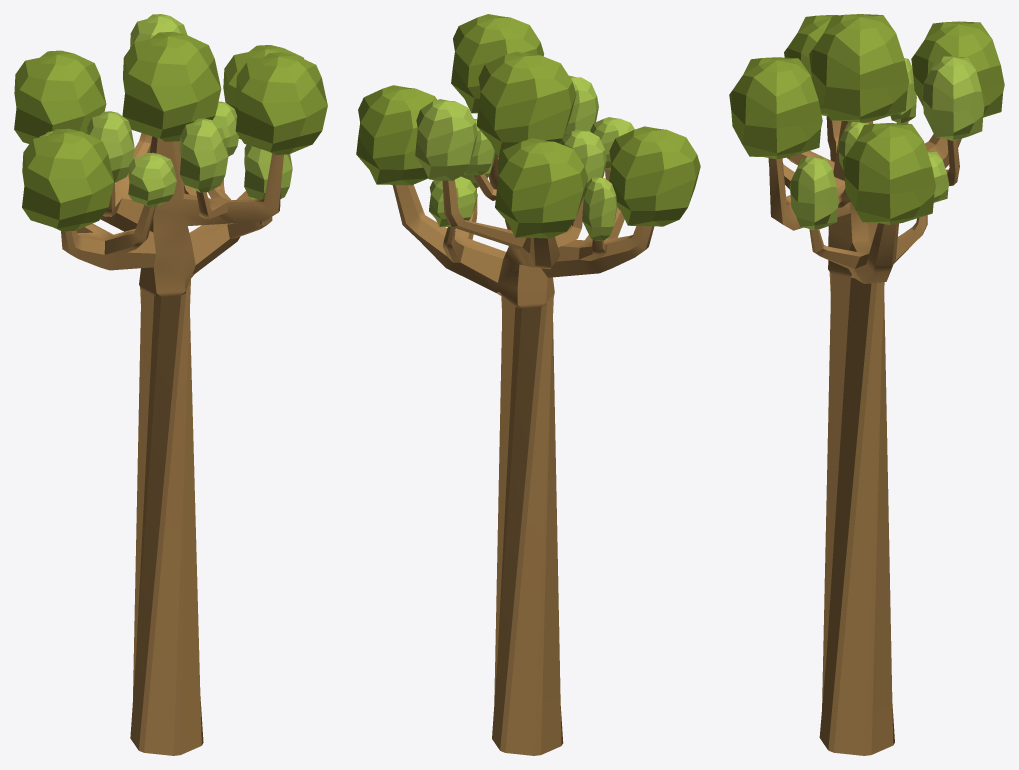
Rendered from arbreBranches.fbx.
3 renders of one model, left to right at view 1: azimuth 30°, elevation 25°; view 2: azimuth 150°, elevation 25°; view 3: azimuth 270°, elevation 25°, orthographic. The views are drawn at different scales.
Parts seen in each view (by area): view 1: arbreBranches; view 2: arbreBranches; view 3: arbreBranches.
Part boxes in pixels (left/top/right/bottom): arbreBranches: left=14, top=14, right=327, bottom=755; arbreBranches: left=356, top=14, right=700, bottom=755; arbreBranches: left=729, top=14, right=1004, bottom=755.
Bounding box in the file's own units: 295 × 627 × 216.
